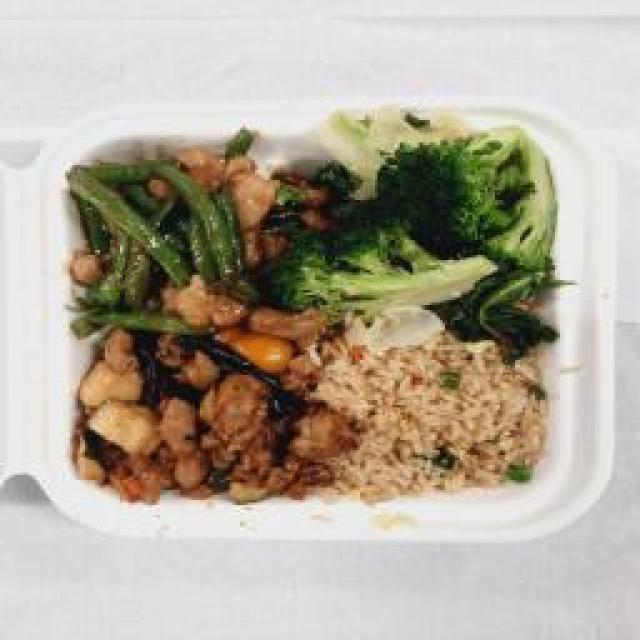Wet Waste: (305, 112, 573, 348), (65, 333, 355, 515), (67, 140, 285, 348), (312, 327, 558, 505)
